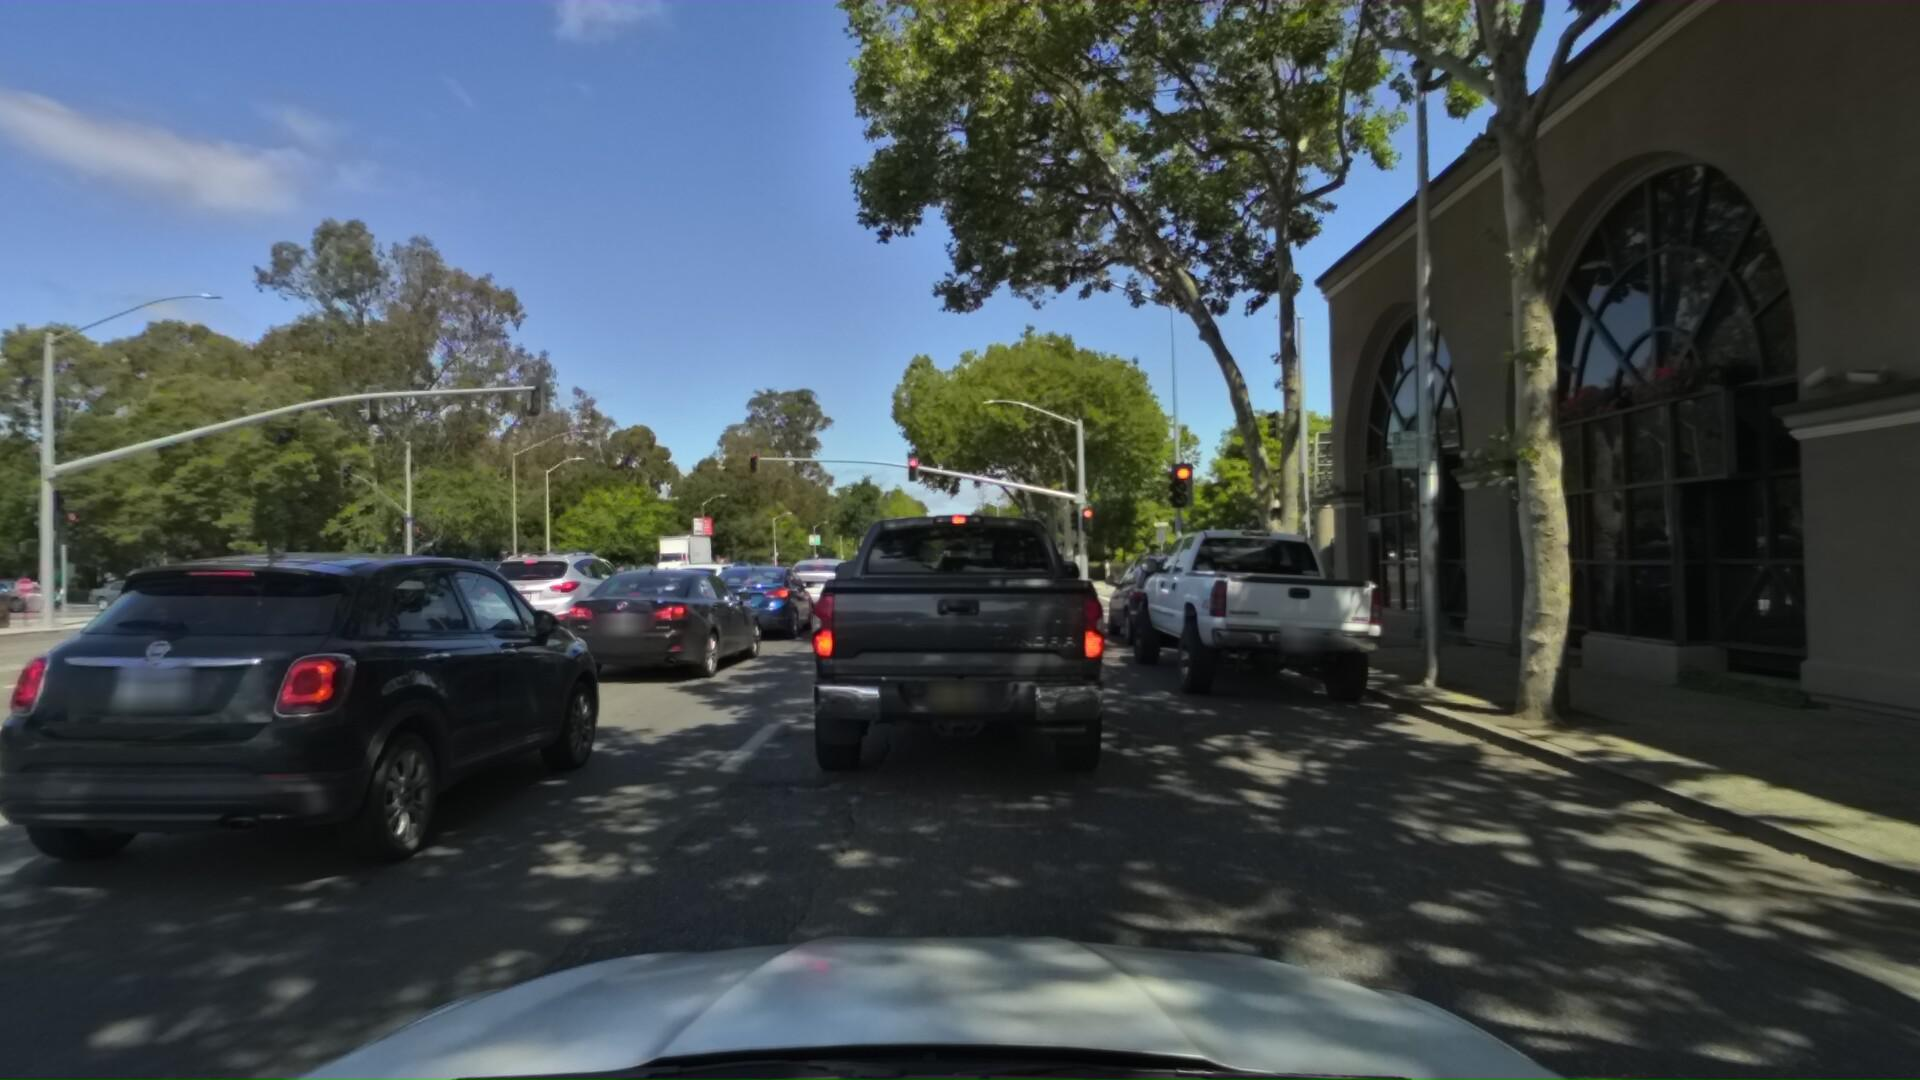car: (0, 518, 640, 939), (793, 440, 1146, 833), (90, 564, 467, 729), (1118, 510, 1407, 712), (549, 556, 774, 695), (947, 535, 1083, 671), (476, 542, 638, 649), (1091, 542, 1247, 651), (186, 560, 363, 633), (688, 556, 822, 650), (524, 541, 647, 607), (781, 553, 866, 622), (415, 553, 518, 605), (84, 564, 218, 604), (665, 551, 745, 609), (0, 566, 86, 608)
truck: (647, 525, 716, 579)
